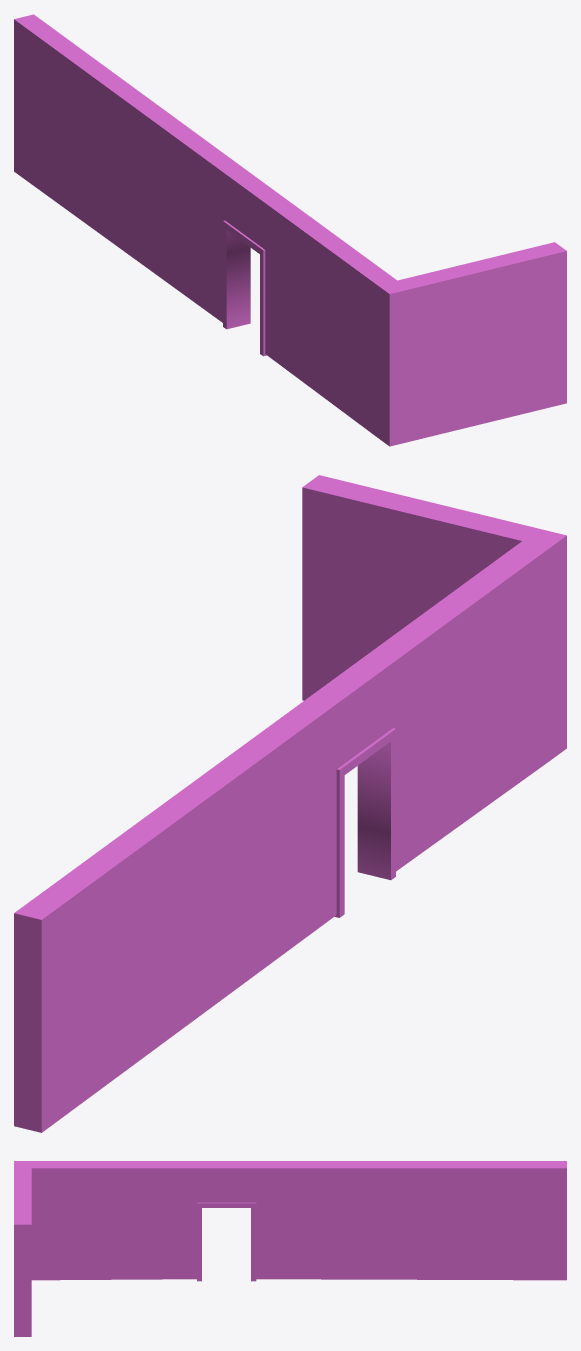
File: ParedeELow.fbx
3 views of the same model, one above another, from view 1: azimuth 30°, elevation 25°; view 2: azimuth 150°, elevation 25°; view 3: azimuth 270°, elevation 25° (orthographic). The views are drawn at different scales.
Parts seen in each view (by area): view 1: Cube.051; view 2: Cube.051; view 3: Cube.051.
Boxes of the visible parts, box(x1,y1,x2,y2) form: Cube.051: box(14, 14, 566, 446); Cube.051: box(14, 475, 566, 1132); Cube.051: box(14, 1161, 566, 1336).
Size of the model in its own units: 543 by 441 by 1970.
